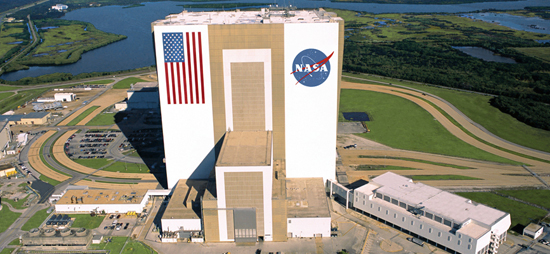NASA: (289, 46, 337, 89)
